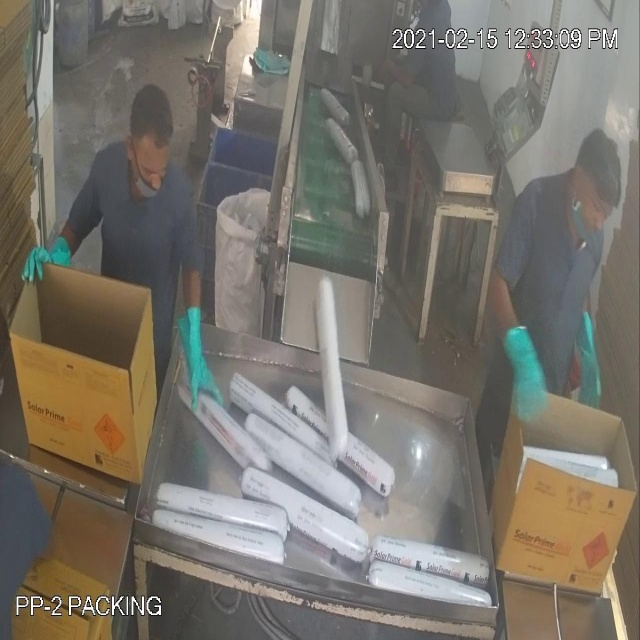Guantes: (498, 308, 552, 431), (179, 286, 223, 420), (16, 220, 80, 291)
